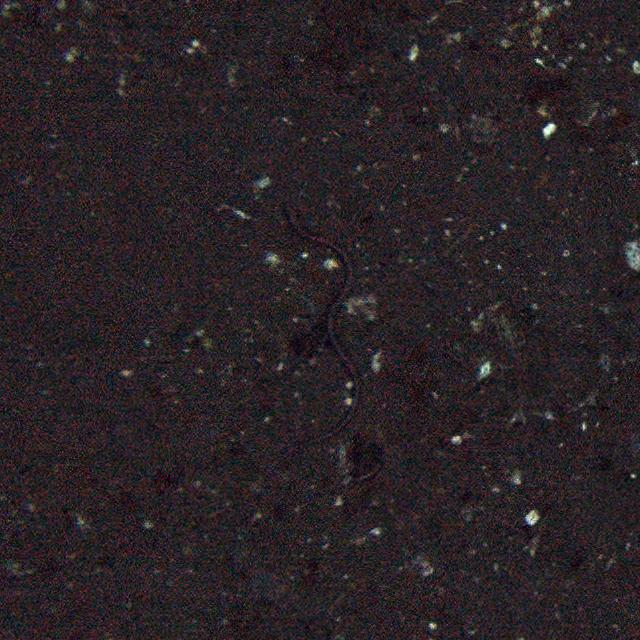eel: (285, 203, 367, 448)
